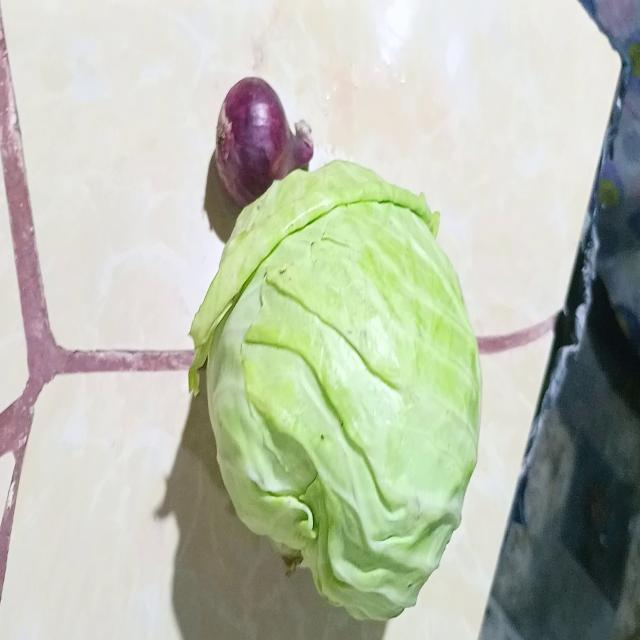cabbage: (187, 159, 481, 624)
onion: (216, 76, 315, 207)
